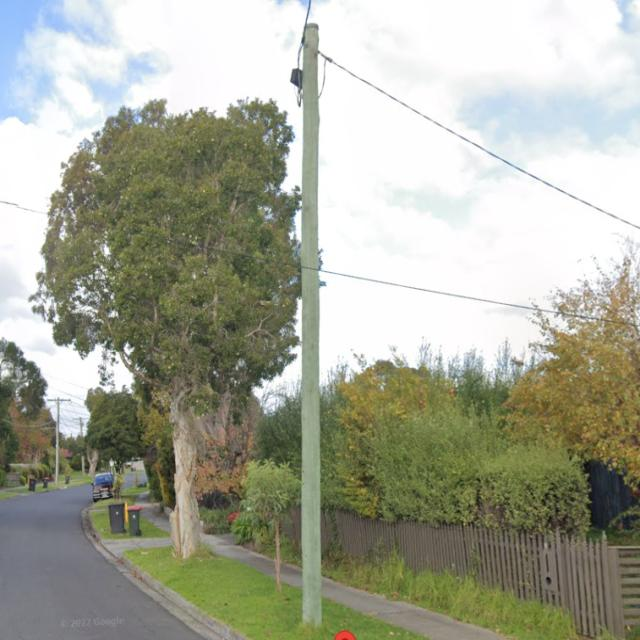crossarm: (48, 398, 70, 403), (72, 416, 89, 421)
timber-pole: (302, 22, 323, 628), (54, 398, 60, 487), (79, 416, 87, 478)
